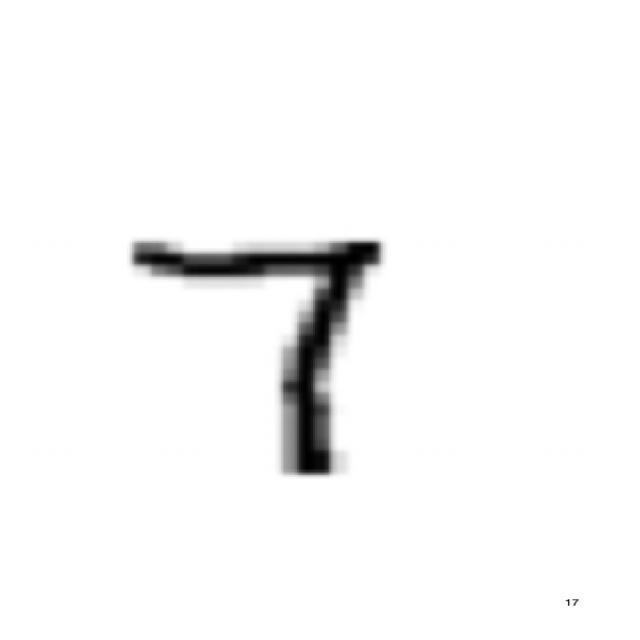6 -six-: (119, 219, 392, 484)
